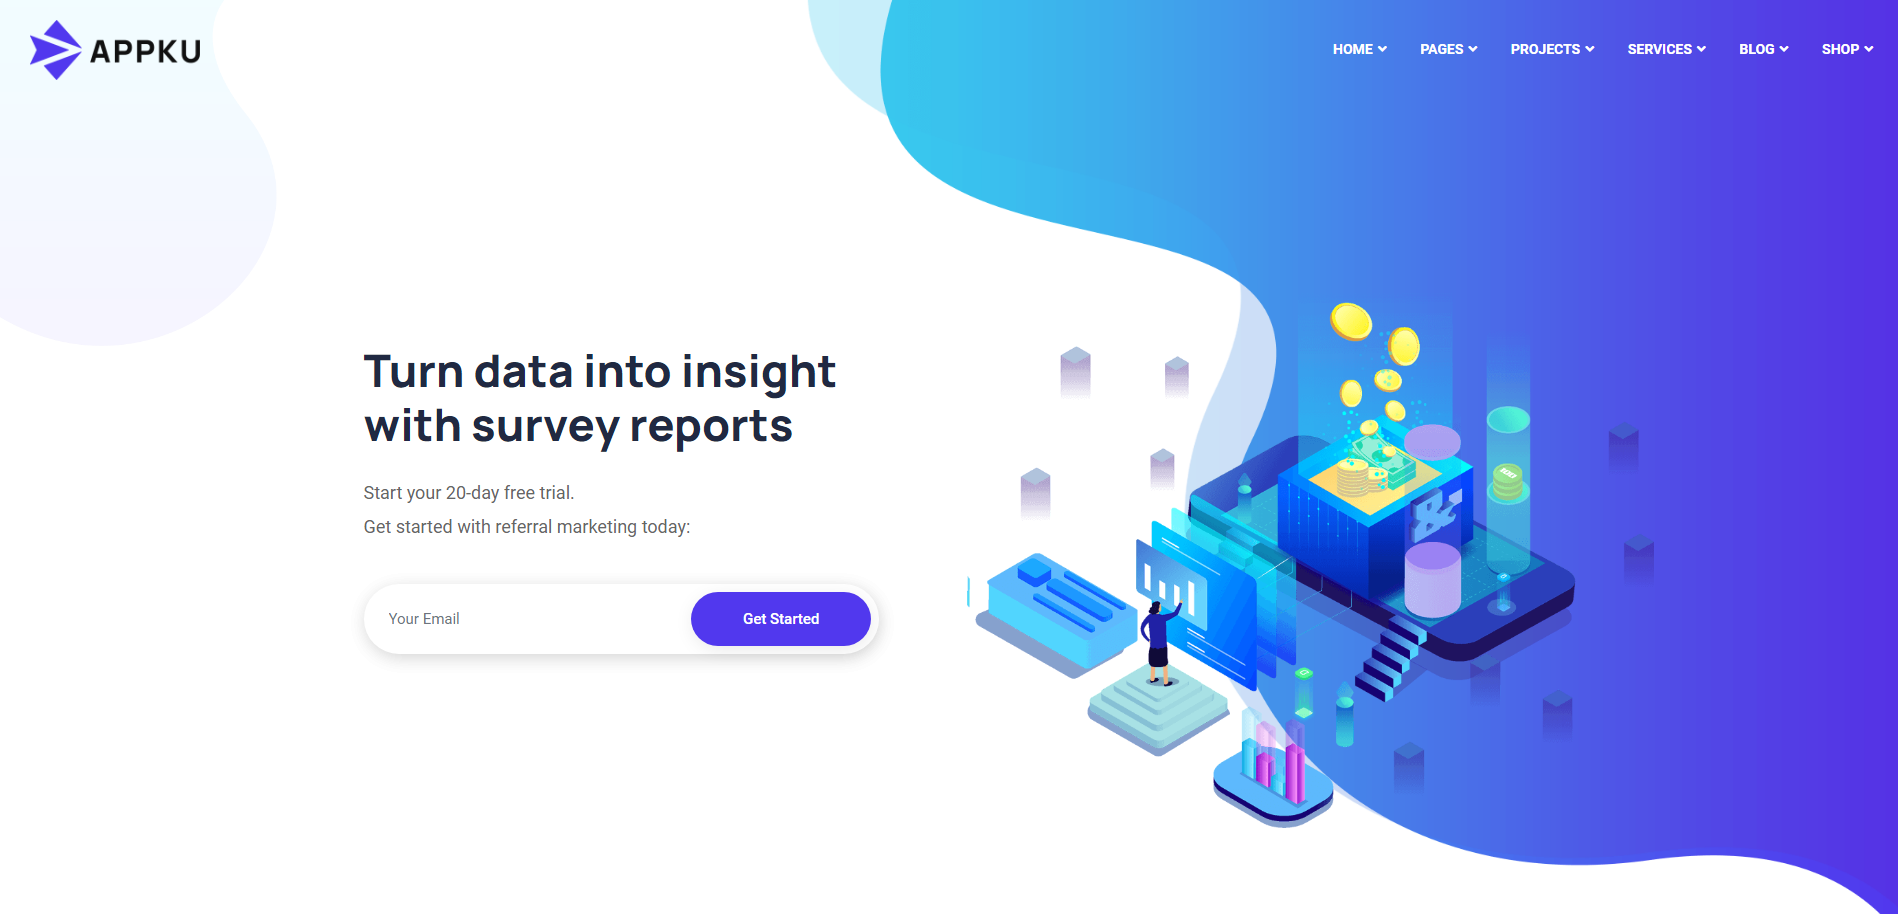menu-bar: (15, 11, 1890, 207)
